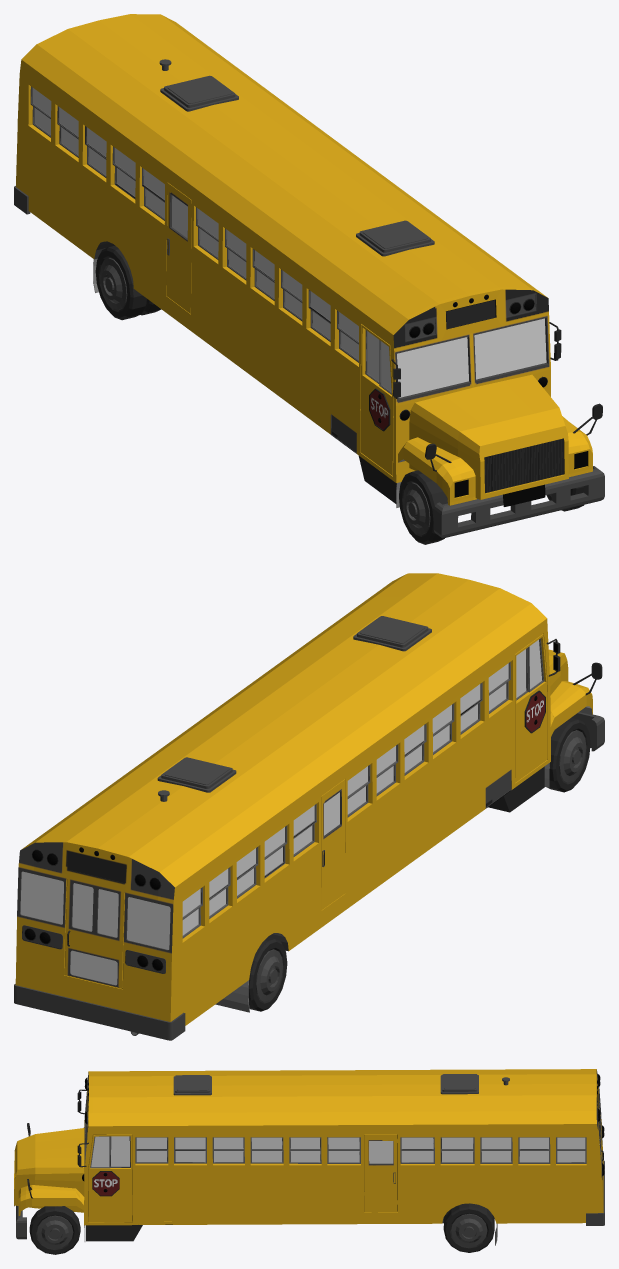
3 renders of one model, top to bottom at view 1: azimuth 30°, elevation 25°; view 2: azimuth 150°, elevation 25°; view 3: azimuth 270°, elevation 25°, orthographic. The views are drawn at different scales.
Visible parts, largest first — view 1: car body_0; view 2: car body_0; view 3: car body_0.
Boxes of the visible parts, x1,y1,x2,y2 form: car body_0: [14, 14, 604, 544]; car body_0: [14, 573, 604, 1040]; car body_0: [14, 1069, 604, 1254].
Bounding box in the file's own units: 2.35 × 2.8 × 9.96.
Materials: 1 (1 with a texture image).
